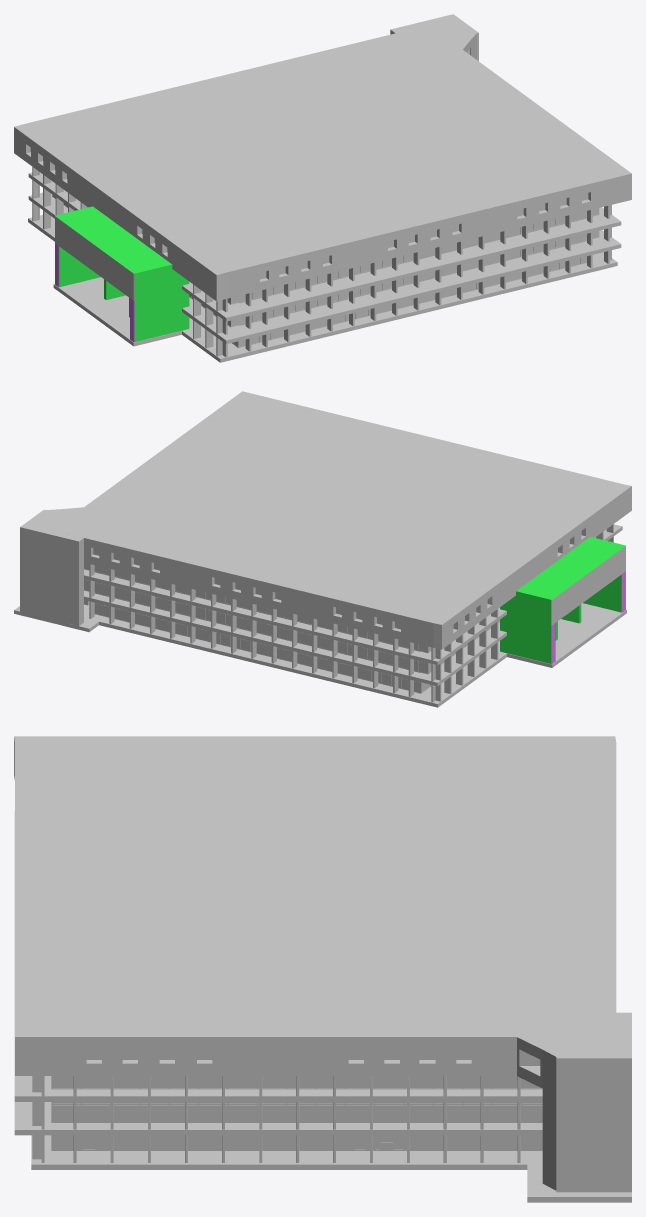
Rendered from BuildingL.fbx.
3 renders of one model, top to bottom at view 1: azimuth 30°, elevation 25°; view 2: azimuth 150°, elevation 25°; view 3: azimuth 270°, elevation 25°, orthographic. The views are drawn at different scales.
Visible parts, largest first — view 1: concrete_roof, concrete, loza, front_columns, floor, columns, windows, mural, windows.001, emergency_exit, frames, square_windows (+1 smaller); view 2: concrete_roof, concrete, windows, loza, front_columns, floor, columns, emergency_exit, frames, mural, square_windows; view 3: concrete_roof, windows, concrete, emergency_exit, loza, floor, frames, columns, square_windows.
Part boxes in pixels (x1,y1,x2,y2): concrete_roof: (14, 25, 631, 274); concrete: (14, 127, 631, 301); loza: (28, 172, 621, 344); front_columns: (55, 206, 189, 342); floor: (28, 215, 617, 362); columns: (32, 167, 611, 357); windows: (52, 195, 598, 347); mural: (55, 216, 134, 300); windows.001: (369, 227, 520, 315); emergency_exit: (390, 14, 478, 61); frames: (52, 49, 599, 347); square_windows: (30, 49, 588, 279); concrete_roof: (53, 391, 631, 624); concrete: (84, 486, 631, 649); windows: (84, 562, 499, 692); loza: (84, 524, 622, 686); front_columns: (500, 537, 625, 663); floor: (14, 601, 626, 707); columns: (84, 524, 613, 702); emergency_exit: (20, 507, 83, 625); frames: (84, 567, 499, 693); mural: (551, 546, 625, 625); square_windows: (93, 531, 581, 629); concrete_roof: (14, 736, 616, 1036); windows: (51, 1076, 542, 1150); concrete: (14, 737, 516, 1075); emergency_exit: (517, 1012, 631, 1192); loza: (14, 811, 542, 1135); floor: (31, 1076, 631, 1202); frames: (51, 1076, 542, 1150); columns: (32, 1076, 520, 1162); square_windows: (86, 1049, 471, 1059).
Size of the model in its own units: 8187 by 1503 by 6026.
